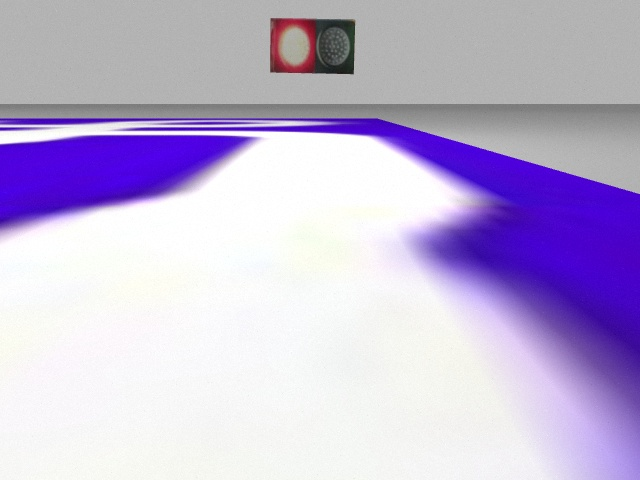red: (269, 20, 317, 72)
